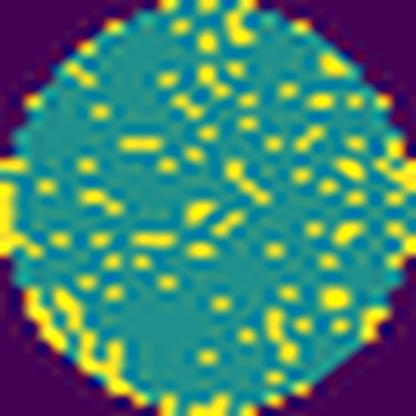Edge-Loc: (20, 279, 144, 409), (0, 179, 20, 258), (392, 158, 416, 196)
